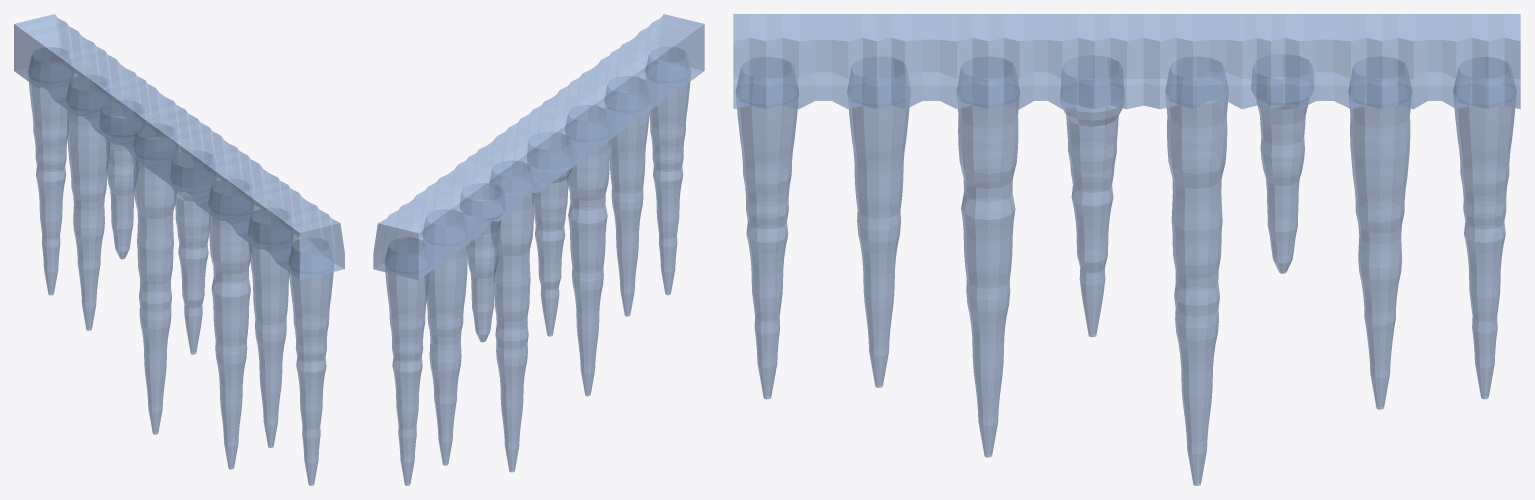
The model's file is sosylka. 3 blend.fbx.
3 renders of one model, left to right at view 1: azimuth 30°, elevation 25°; view 2: azimuth 150°, elevation 25°; view 3: azimuth 270°, elevation 25°, orthographic. The views are drawn at different scales.
Visible parts, largest first — view 1: Куб, Окружность.004, Окружность.001, Окружность.006, Окружность.002, Окружность, Окружность.007, Окружность.003, Окружность.005; view 2: Куб, Окружность.004, Окружность.001, Окружность.006, Окружность.007, Окружность.002, Окружность, Окружность.003, Окружность.005; view 3: Куб, Окружность.004, Окружность.001, Окружность.006, Окружность.007, Окружность.002, Окружность, Окружность.003, Окружность.005.
Boxes of the visible parts, x1,y1,x2,y2 form: Куб: (14,14,344,279); Окружность.004: (133,123,178,434); Окружность.001: (208,179,253,469); Окружность.006: (66,74,111,330); Окружность.002: (288,237,333,485); Окружность: (248,208,293,447); Окружность.007: (28,47,73,295); Окружность.003: (170,150,216,354); Окружность.005: (99,100,144,259); Куб: (373,14,704,280); Окружность.004: (489,160,534,472); Окружность.001: (565,105,610,396); Окружность.006: (423,209,468,465); Окружность.007: (385,237,430,485); Окружность.002: (645,47,690,295); Окружность: (604,76,650,316); Окружность.003: (527,132,572,336); Окружность.005: (460,183,505,342); Куб: (733,14,1520,109); Окружность.004: (1165,56,1228,485); Окружность.001: (957,56,1019,457); Окружность.006: (1348,56,1411,409); Окружность.007: (1453,57,1516,399); Окружность.002: (736,57,798,399); Окружность: (847,56,910,387); Окружность.003: (1060,55,1124,337); Окружность.005: (1251,54,1313,273).
Size of the model in its own units: 121 by 846 by 1325.
